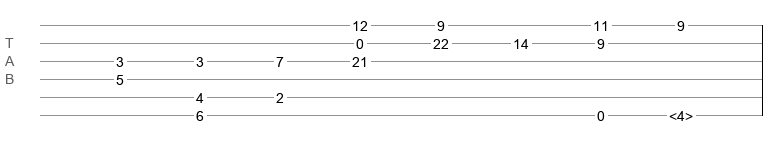0: (356, 36, 364, 46), (597, 108, 605, 118)
11: (593, 18, 609, 28)
12: (352, 18, 368, 28)
14: (513, 36, 529, 46)
2: (276, 90, 284, 100)
21: (352, 54, 368, 64)
22: (433, 36, 449, 46)
3: (116, 54, 124, 64), (196, 54, 204, 64)
4: (196, 90, 204, 100)
5: (116, 72, 124, 82)
6: (196, 108, 204, 118)
7: (276, 54, 284, 64)
9: (437, 18, 445, 28), (597, 36, 605, 46), (677, 18, 685, 28)
harmonic: (669, 108, 693, 118)
